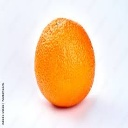orange: (34, 17, 96, 109)
